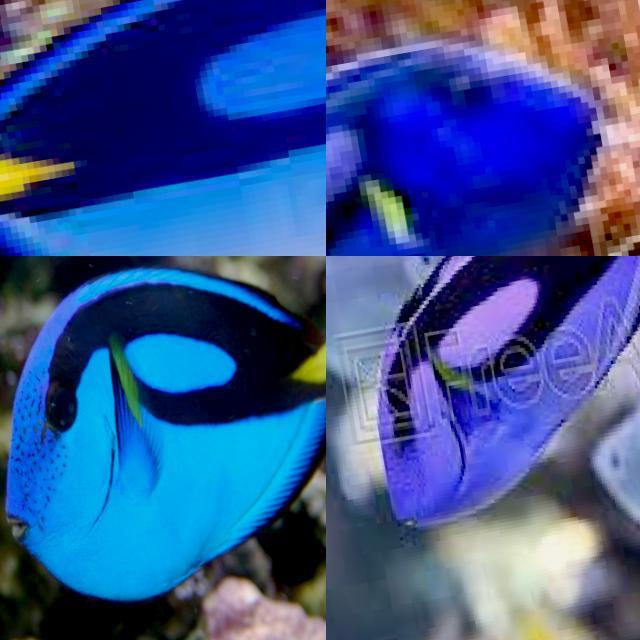BlueTang: (0, 256, 323, 605), (326, 256, 640, 558), (0, 0, 326, 256), (326, 50, 609, 256)
